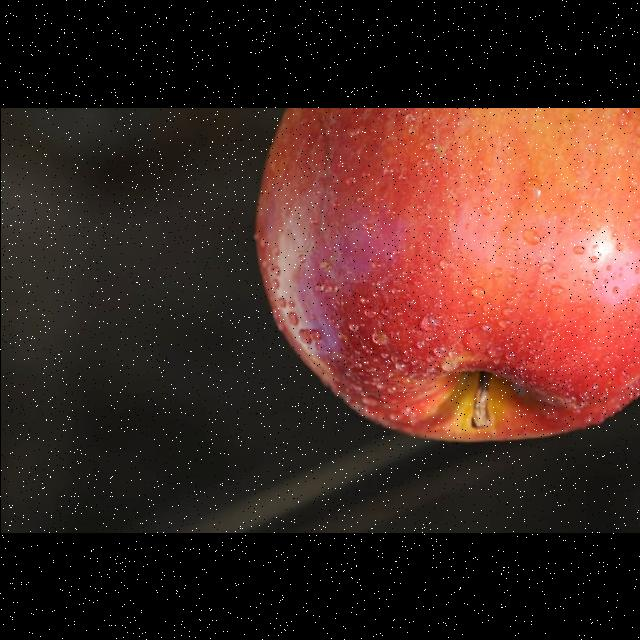Apel Segar: (266, 108, 640, 446)
